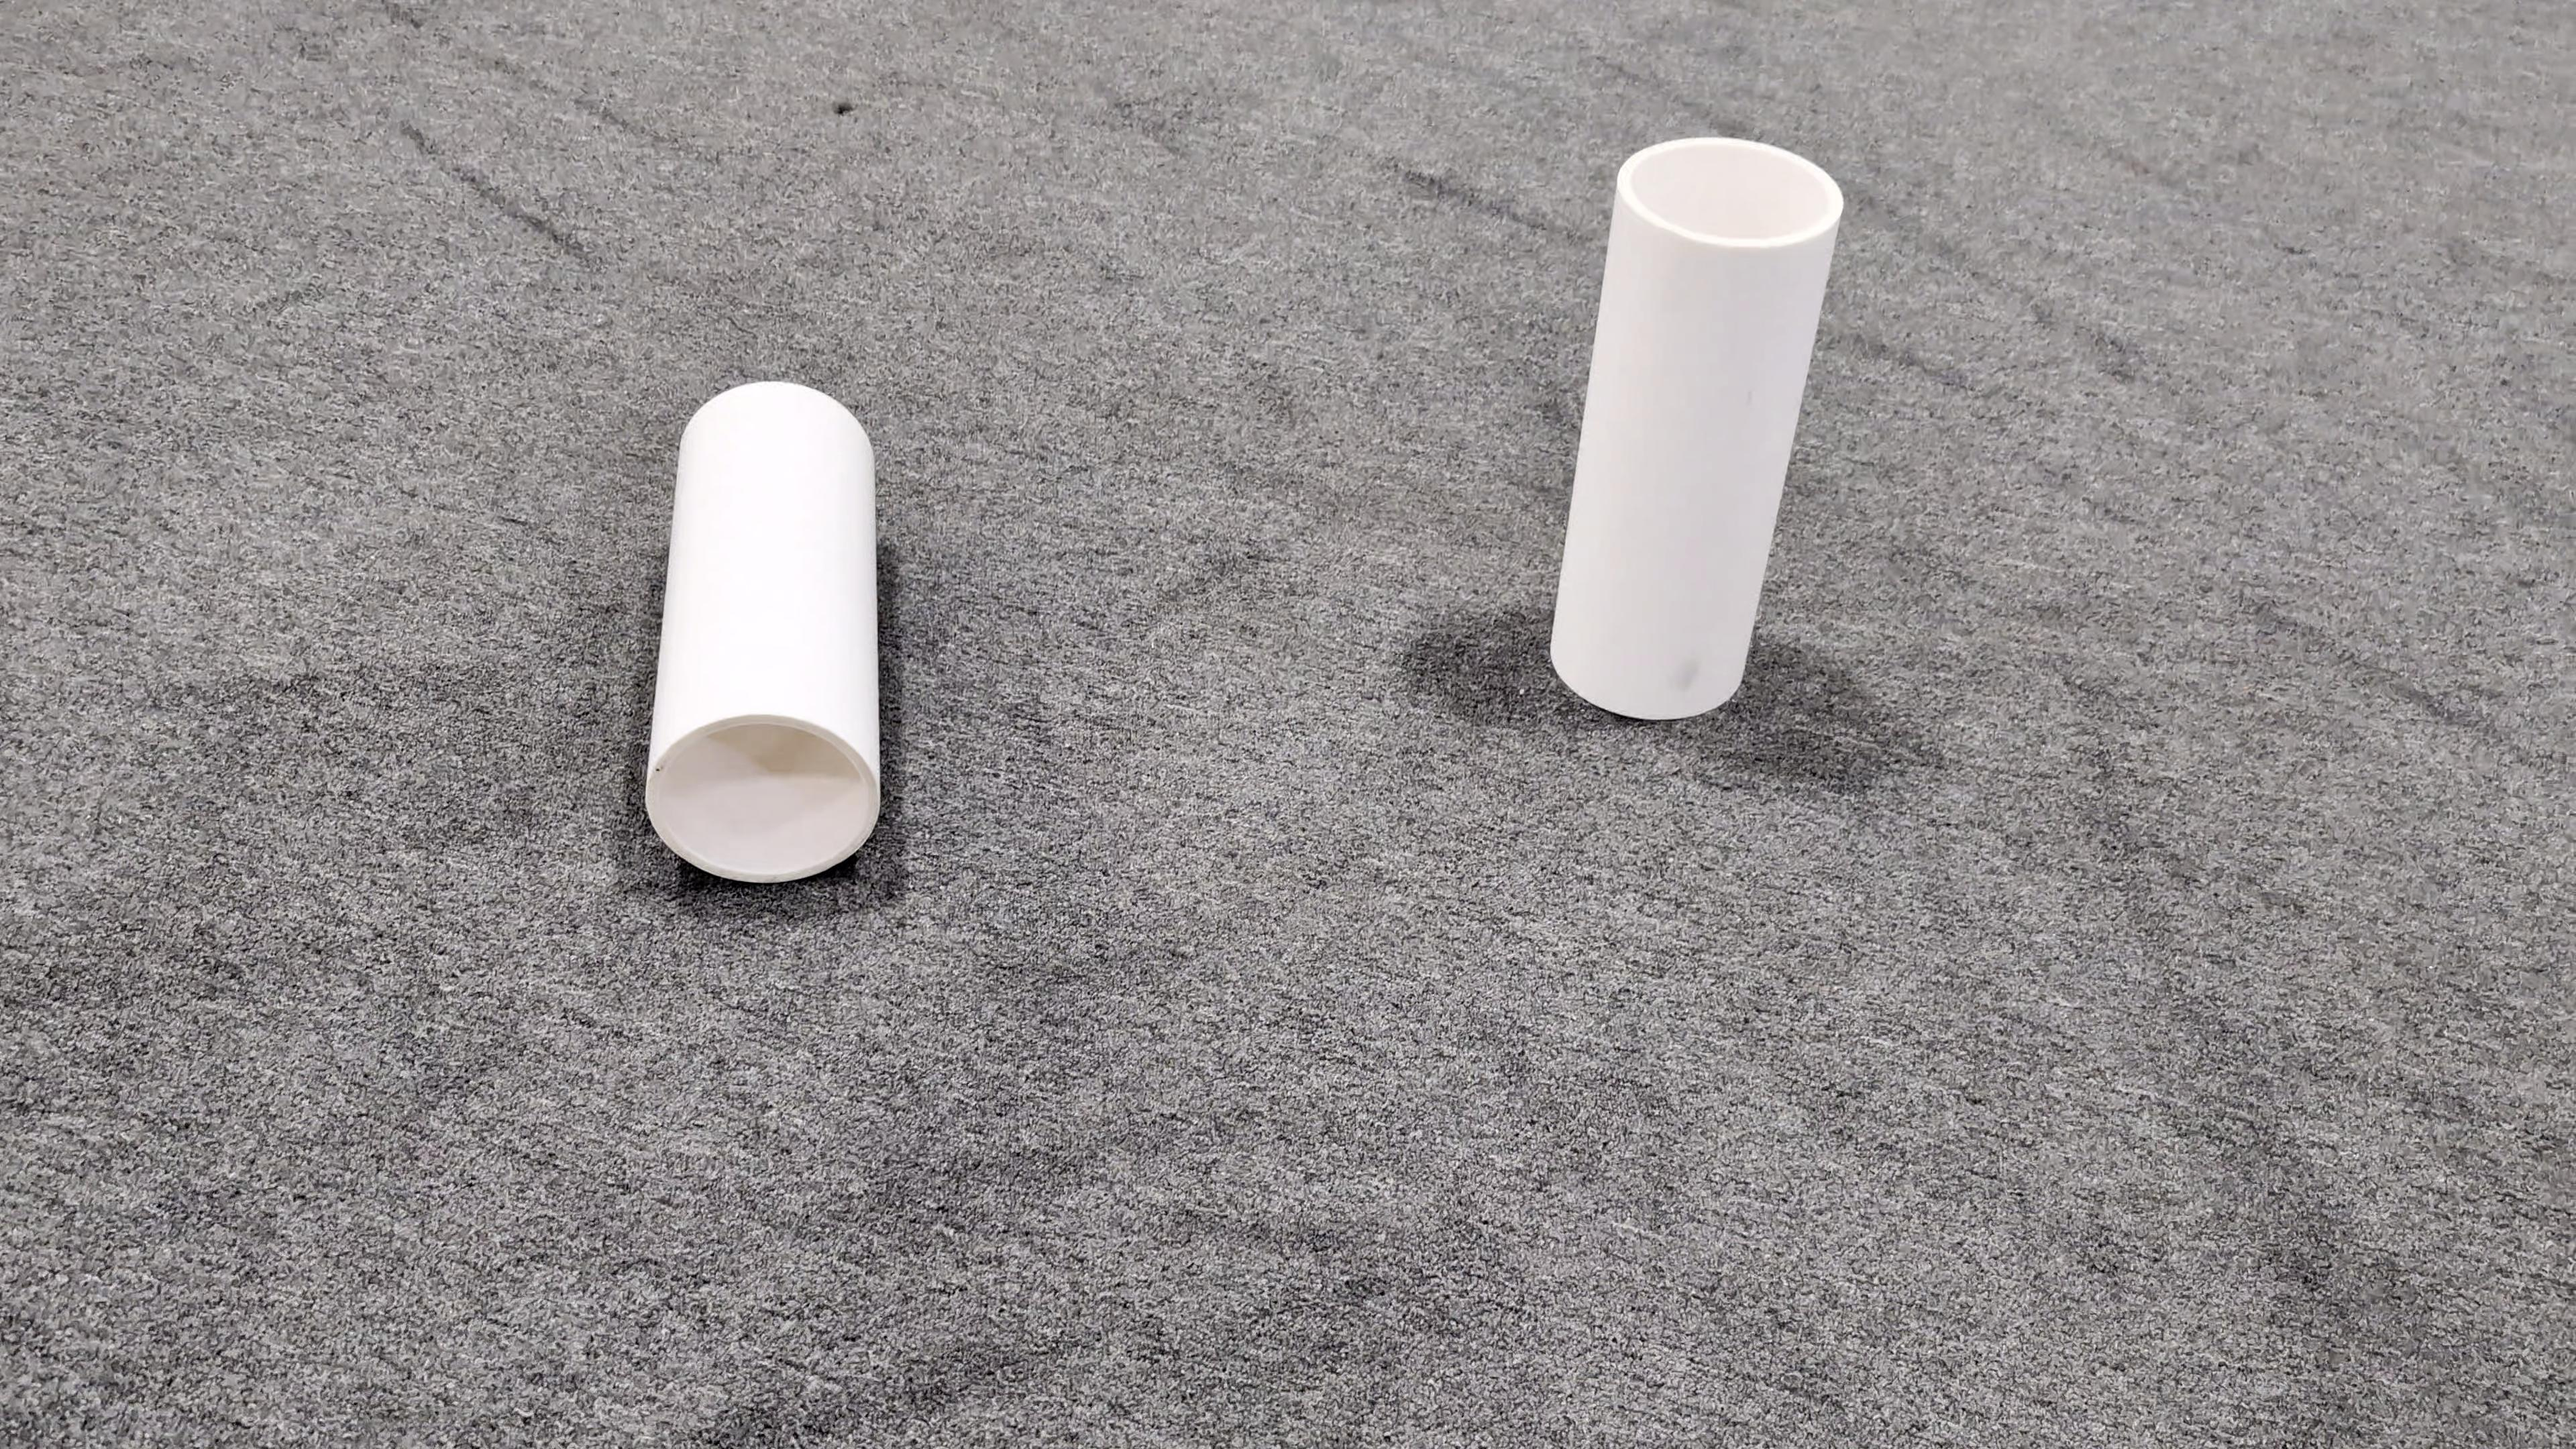coral: (1552, 136, 1845, 720), (648, 380, 881, 883)
